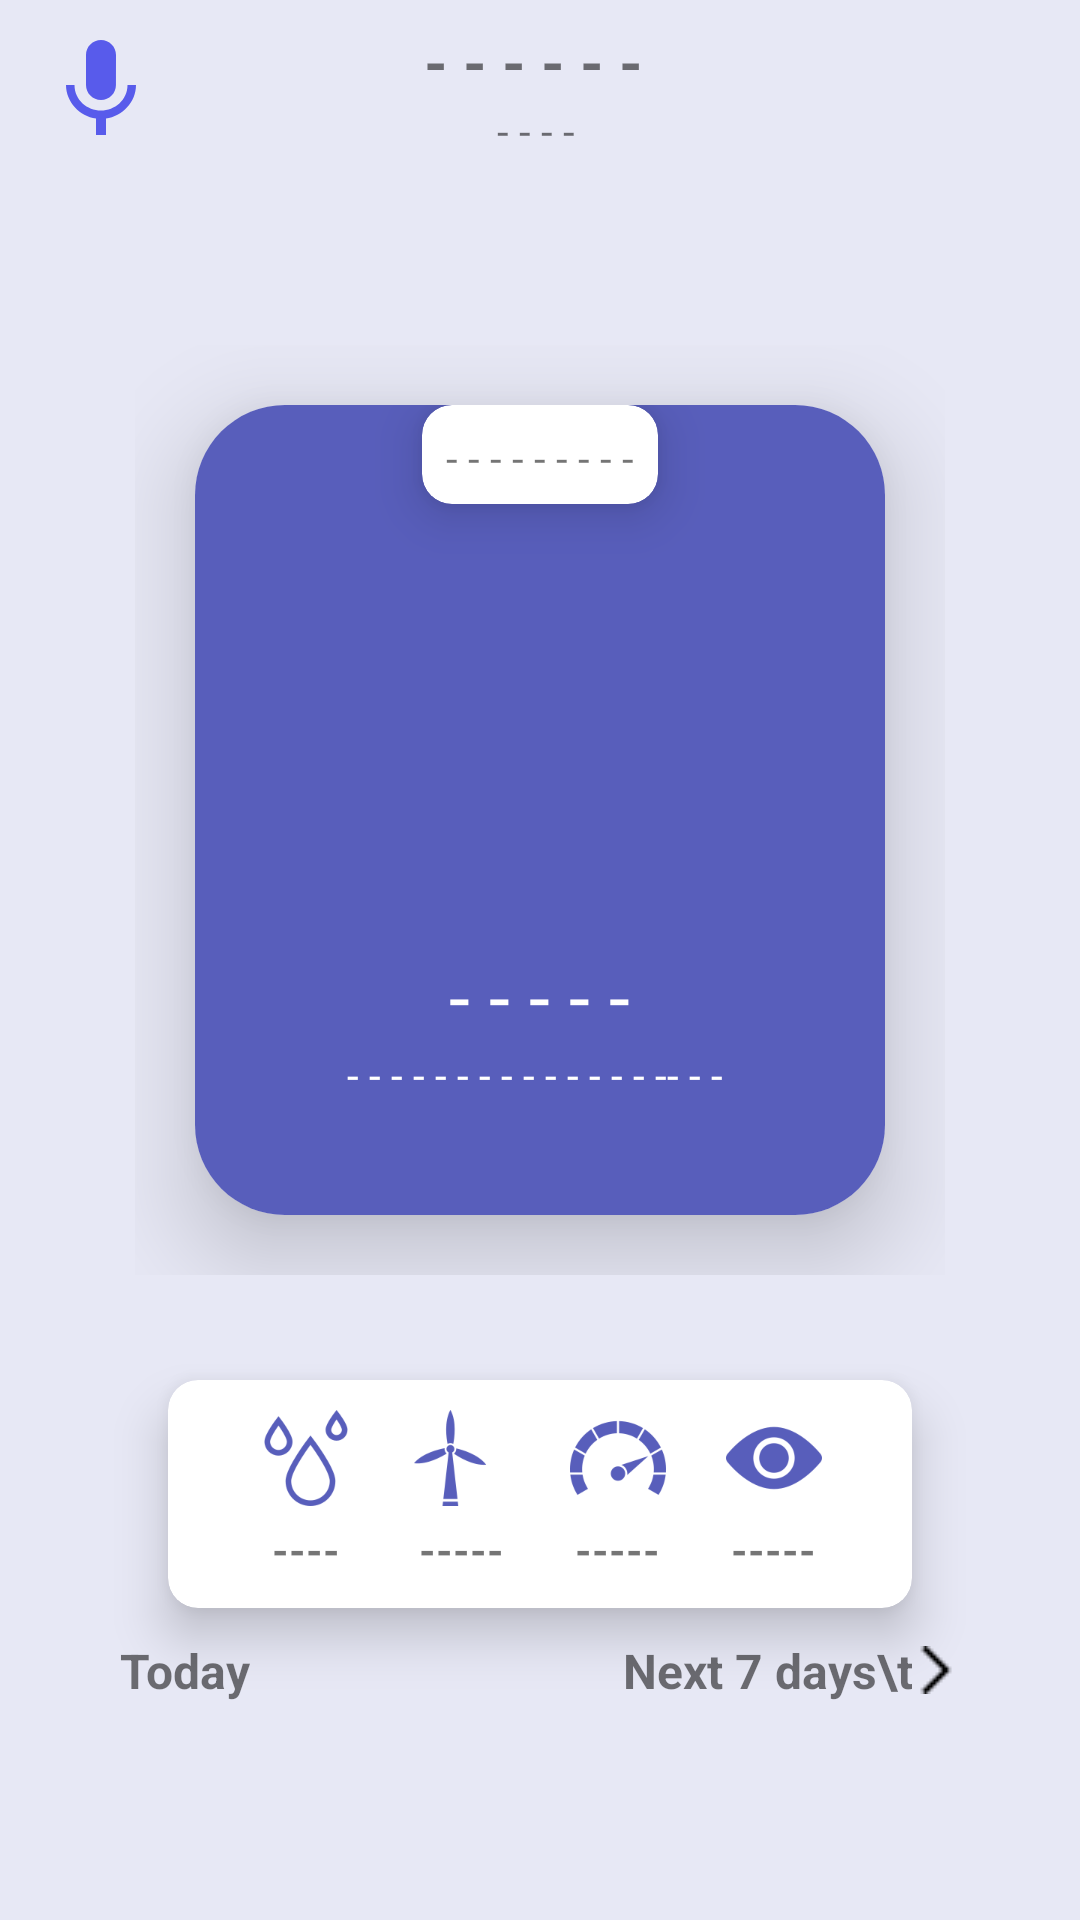

Icons on this 1080 × 1920 Android screen, each with the point to tap as point (x, y):
drop: point (306, 1458)
meter: point (618, 1458)
mic: point (101, 87)
view: point (774, 1458)
wind: point (450, 1458)
